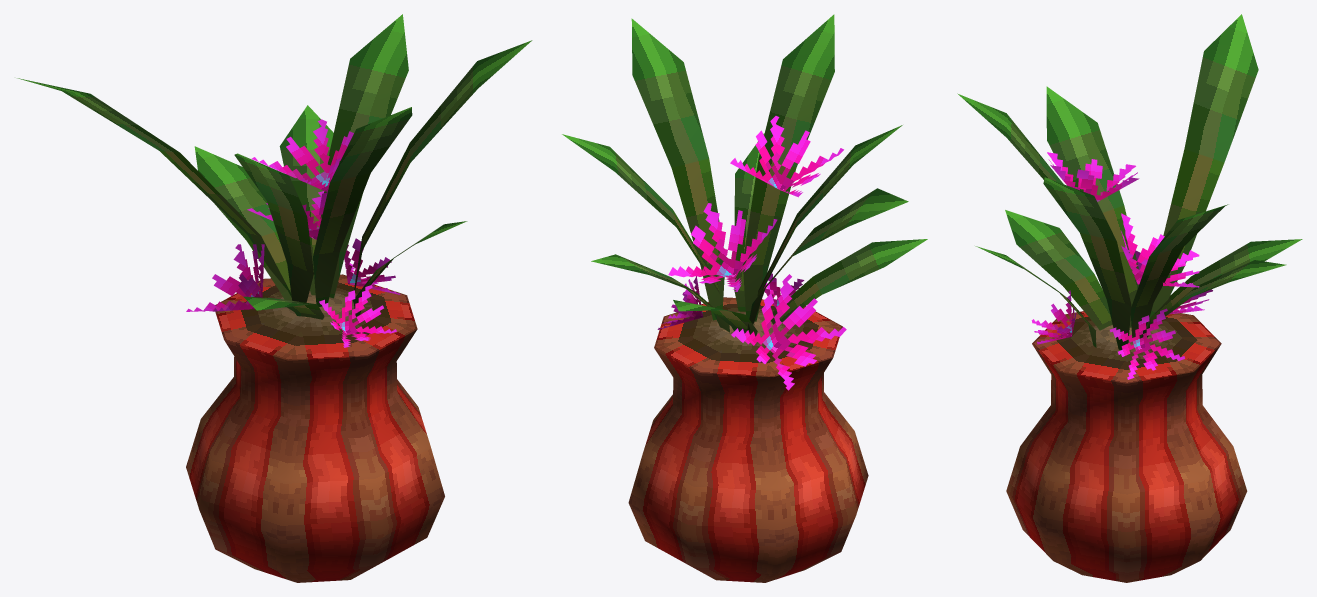
The model's file is FLOWERPOTRED.fbx.
3 renders of one model, left to right at view 1: azimuth 30°, elevation 25°; view 2: azimuth 150°, elevation 25°; view 3: azimuth 270°, elevation 25°, orthographic. The views are drawn at different scales.
Parts seen in each view (by area): view 1: FLOWERPOTRED; view 2: FLOWERPOTRED; view 3: FLOWERPOTRED.
Boxes of the visible parts, bbox=[...] form: FLOWERPOTRED: bbox=[17, 14, 532, 582]; FLOWERPOTRED: bbox=[562, 14, 927, 582]; FLOWERPOTRED: bbox=[957, 14, 1302, 582].
Size of the model in its own units: 6228 by 7509 by 5078.
Materials: 3 (3 with a texture image).
